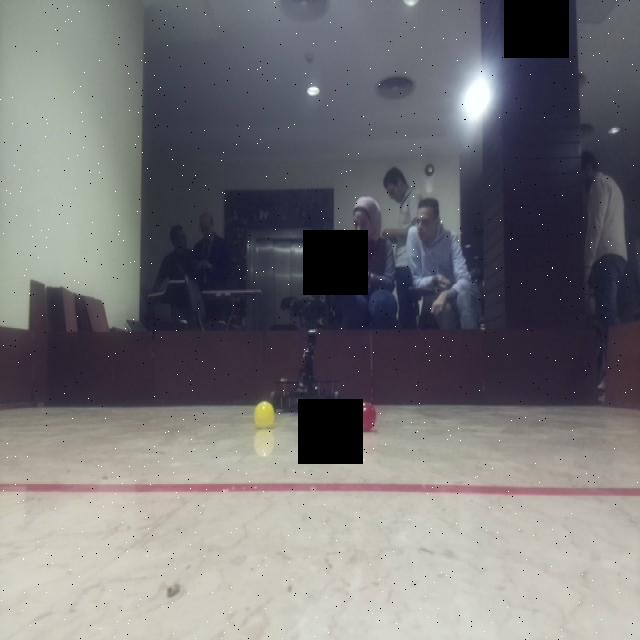ball: (251, 395, 278, 432), (353, 397, 381, 432)
